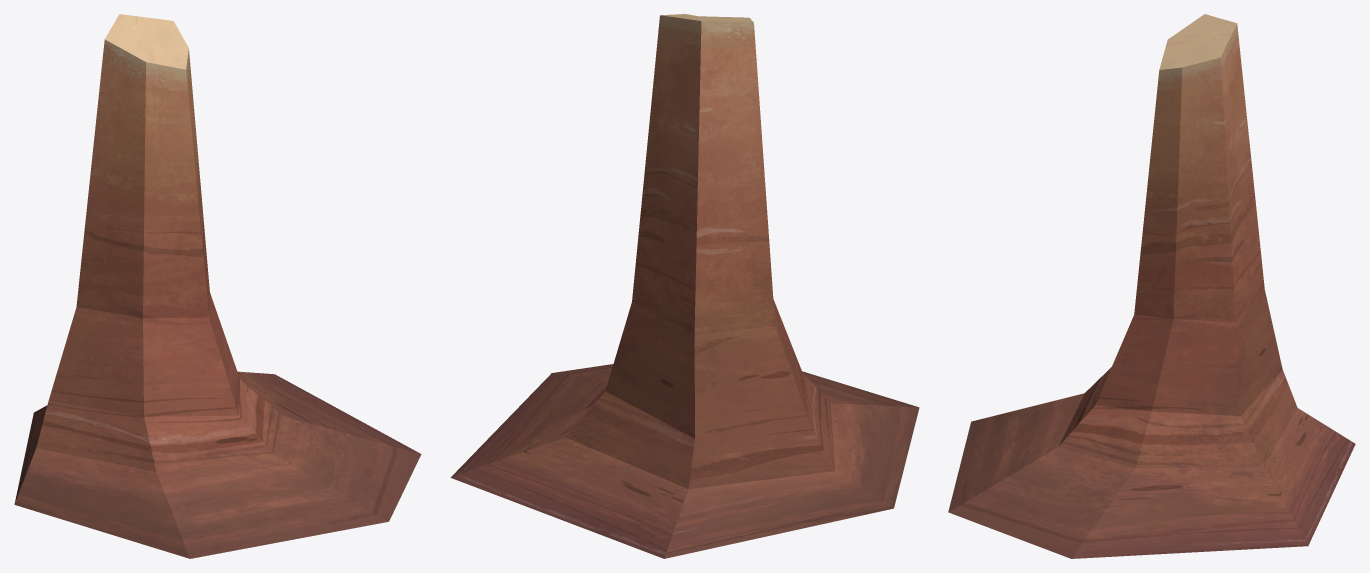
Rendered from spire_3_001.fbx.
The picture shows the model from 3 angles, left to right: view 1: azimuth 30°, elevation 25°; view 2: azimuth 150°, elevation 25°; view 3: azimuth 270°, elevation 25°; orthographic projection. The views are drawn at different scales.
Parts seen in each view (by area): view 1: spire 3.001; view 2: spire 3.001; view 3: spire 3.001.
Part boxes in pixels (x1,y1,x2,y2): spire 3.001: (14, 14, 421, 558); spire 3.001: (450, 14, 919, 558); spire 3.001: (948, 14, 1355, 558).
Bounding box in the file's own units: 325 × 378 × 322.
